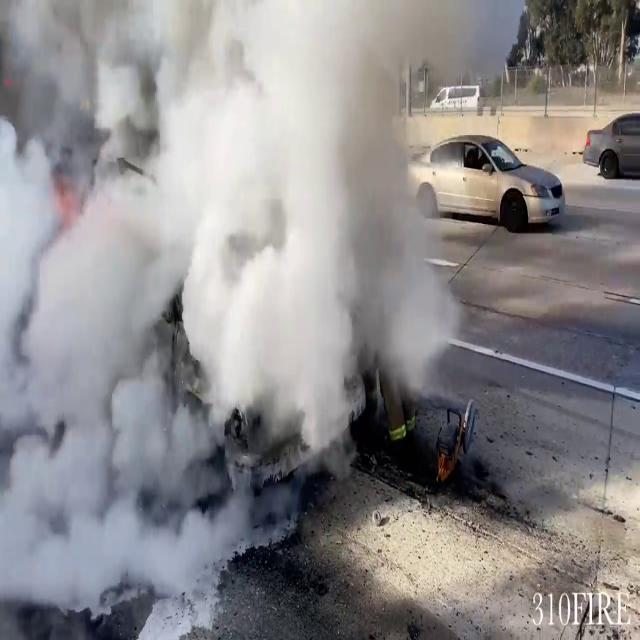Smoke: (0, 0, 474, 605)
